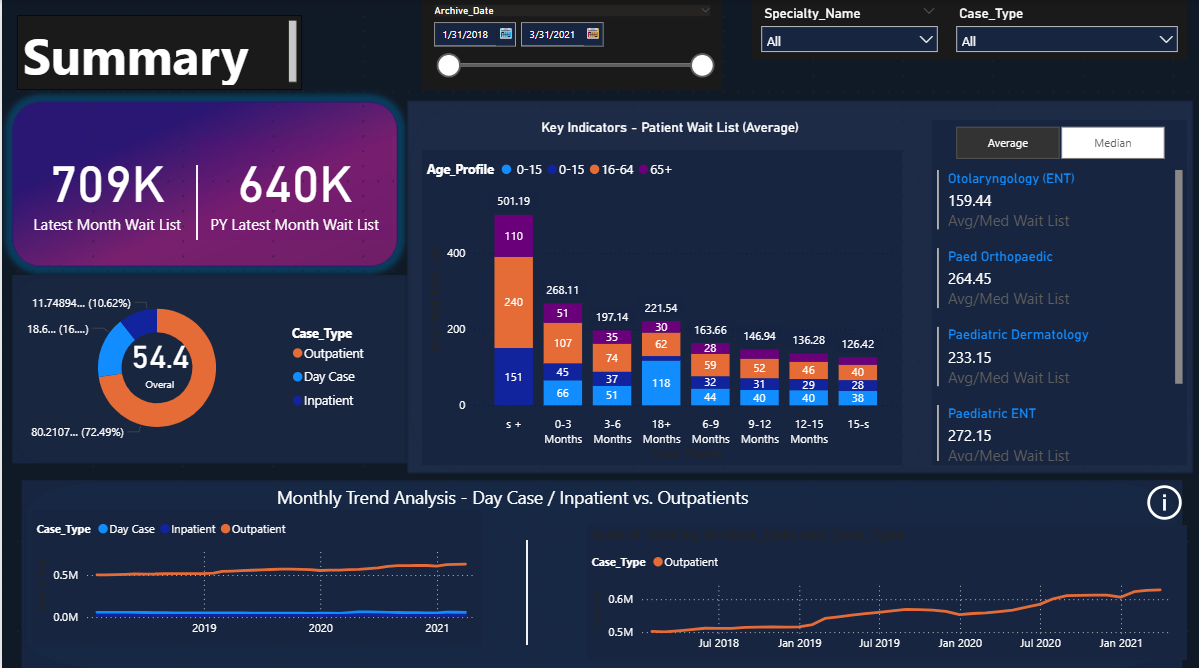

The page's visual inventory and layout, read from the dashboard file:
{"tool":"powerbi","page":{"name":"Summary","canvas":[1280,720],"ordinal":0},"visuals":[{"type":"card","fields":{"Values":["All_Data.Latest Month Wait List"]},"box":[16,144,192,112],"z":0},{"type":"slicer","fields":{"Values":["Calculation Method.Calc Method"]},"box":[992,128,272,48],"z":1000},{"type":"donutChart","fields":{"Category":["All_Data.Case_Type"],"Y":["All_Data.Avg/Med Wait List"]},"box":[16,304,384,176],"z":2000},{"type":"columnChart","fields":{"Y":["All_Data.Avg/Med Wait List"],"Category":["All_Data.Time_Bands"],"Series":["All_Data.Age_Profile"]},"box":[448,160,512,336],"z":3000},{"type":"multiRowCard","fields":{"Values":["All_Data.Speciality_Name","All_Data.Avg/Med Wait List"]},"box":[992,176,272,320],"z":4000},{"type":"card","fields":{"Values":["All_Data.NoDataLeft"]},"box":[80,576,416,80],"z":5000},{"type":"lineChart","fields":{"Y":["Sum(All_Data.Total)"],"Category":["All_Data.Archive_Date"],"Series":["All_Data.Case_Type"]},"box":[32,544,480,144],"z":6000},{"type":"card","fields":{"Values":["All_Data.NoDataRight"]},"box":[672,608,416,80],"z":7000},{"type":"lineChart","fields":{"Y":["Sum(All_Data.Total)"],"Category":["All_Data.Archive_Date"],"Series":["All_Data.Case_Type"]},"box":[624,560,640,144],"z":8000},{"type":"slicer","fields":{"Values":["All_Data.Archive_Date"]},"box":[400,0,320,96],"z":9000},{"type":"slicer","fields":{"Values":["All_Data.Case_Type"]},"box":[1008,0,256,64],"z":10000},{"type":"slicer","fields":{"Values":["All_Data.Specialty_Name"]},"box":[800,0,208,64],"z":11000},{"type":"textbox","box":[16,16,304,80],"z":12000},{"type":"card","fields":{"Values":["All_Data.PY Latest Month Wait List"]},"box":[208,144,208,112],"z":13000},{"type":"card","fields":{"Values":["All_Data.Avg/Med Wait List"]},"box":[96,336,144,96],"z":14000},{"type":"shape","box":[96,176,224,80],"z":15000},{"type":"card","fields":{"Values":["All_Data.Dynamic Title"]},"box":[416,112,592,48],"z":16000},{"type":"textbox","box":[288,512,624,48],"z":17000},{"type":"shape","box":[448,576,224,112],"z":18000},{"type":"actionButton","box":[1216,512,48,48],"z":19000}]}

Visuals, with their boxes in screenshot pixels (x1, y1, x2, y2), scaled from the page's 1280x720 canvas onto the 1199x668 screenshot:
card - All_Data.Latest Month Wait List: region(15, 134, 195, 238)
slicer - Calculation Method.Calc Method: region(929, 119, 1184, 163)
donutChart - All_Data.Case_Type x All_Data.Avg/Med Wait List: region(15, 282, 375, 445)
columnChart - All_Data.Avg/Med Wait List x All_Data.Time_Bands: region(420, 148, 899, 460)
multiRowCard - All_Data.Speciality_Name x All_Data.Avg/Med Wait List: region(929, 163, 1184, 460)
card - All_Data.NoDataLeft: region(75, 534, 465, 609)
lineChart - Sum(All_Data.Total) x All_Data.Archive_Date: region(30, 505, 480, 638)
card - All_Data.NoDataRight: region(629, 564, 1019, 638)
lineChart - Sum(All_Data.Total) x All_Data.Archive_Date: region(585, 520, 1184, 653)
slicer - All_Data.Archive_Date: region(375, 0, 674, 89)
slicer - All_Data.Case_Type: region(944, 0, 1184, 59)
slicer - All_Data.Specialty_Name: region(749, 0, 944, 59)
textbox: region(15, 15, 300, 89)
card - All_Data.PY Latest Month Wait List: region(195, 134, 390, 238)
card - All_Data.Avg/Med Wait List: region(90, 312, 225, 401)
shape: region(90, 163, 300, 238)
card - All_Data.Dynamic Title: region(390, 104, 944, 148)
textbox: region(270, 475, 854, 520)
shape: region(420, 534, 629, 638)
actionButton: region(1139, 475, 1184, 520)
